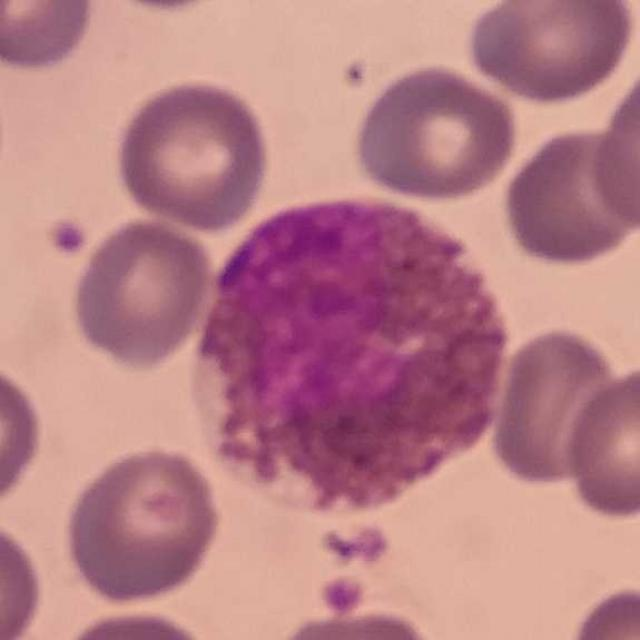Eosinophil: (169, 176, 528, 546)
Platelets: (328, 516, 399, 572), (44, 212, 90, 260), (317, 573, 366, 618)
RBC: (171, 209, 521, 543), (59, 440, 226, 608), (109, 74, 275, 232), (349, 59, 520, 204), (484, 323, 627, 490), (66, 214, 214, 372), (499, 123, 639, 270), (464, 0, 638, 106), (557, 362, 640, 523), (585, 52, 640, 235), (0, 0, 100, 76), (0, 356, 48, 514), (263, 603, 452, 640), (0, 514, 48, 640), (51, 605, 219, 640), (564, 582, 640, 640), (84, 0, 243, 17), (0, 52, 11, 213)
